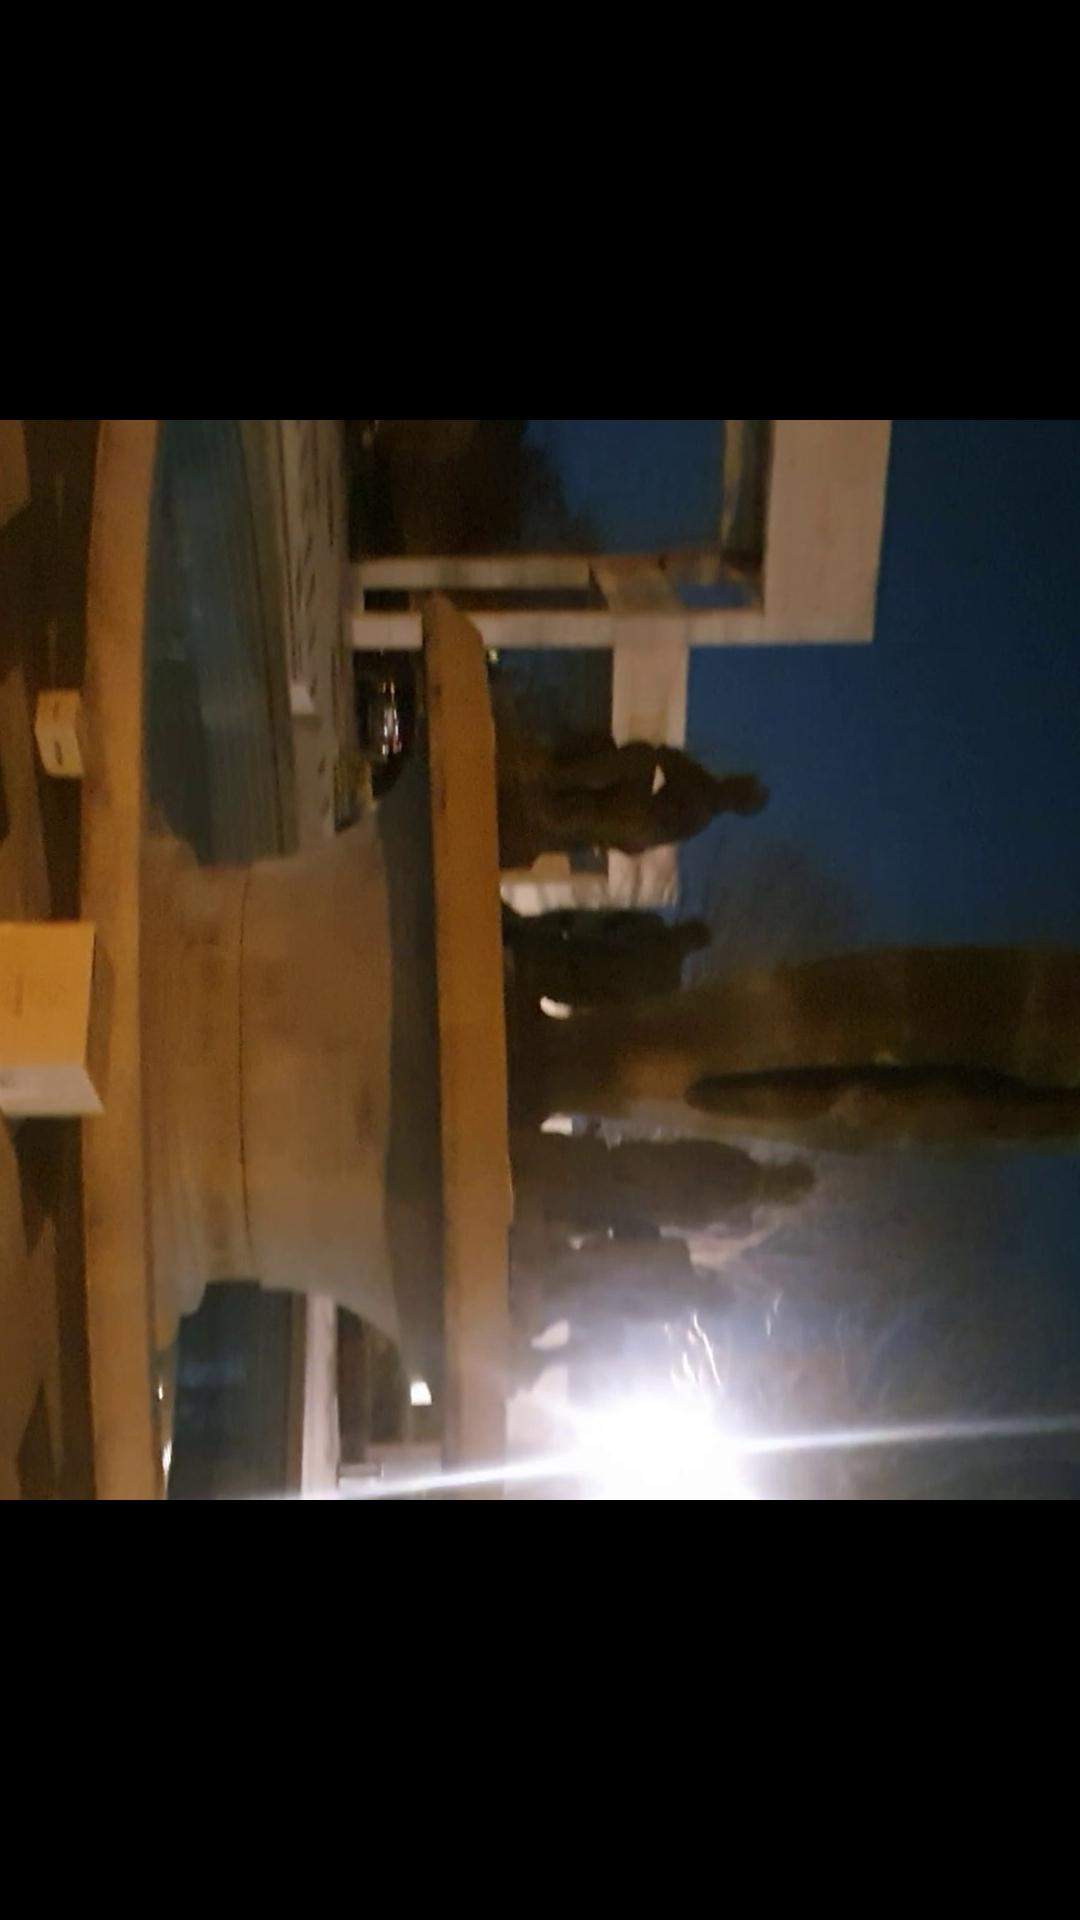Box: (0, 909, 127, 1134), (25, 683, 100, 785)
